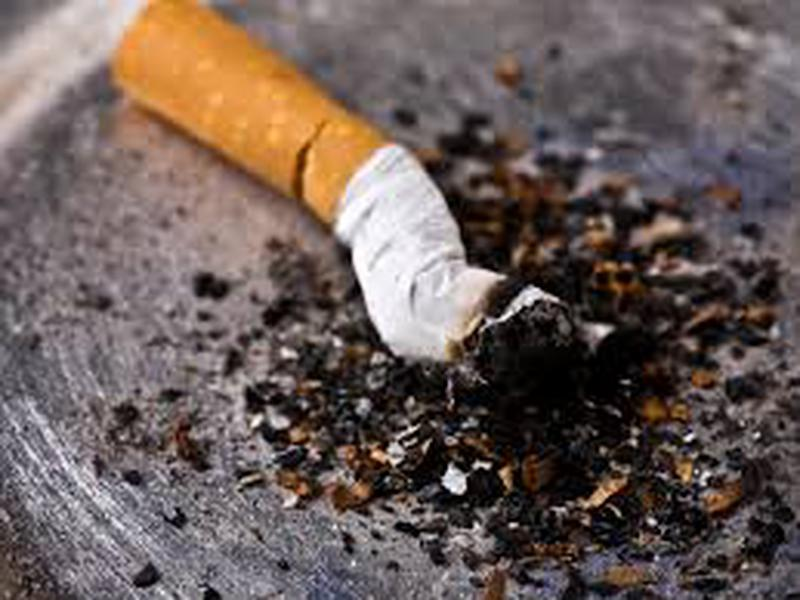burned_cigarette: (106, 1, 607, 404)
